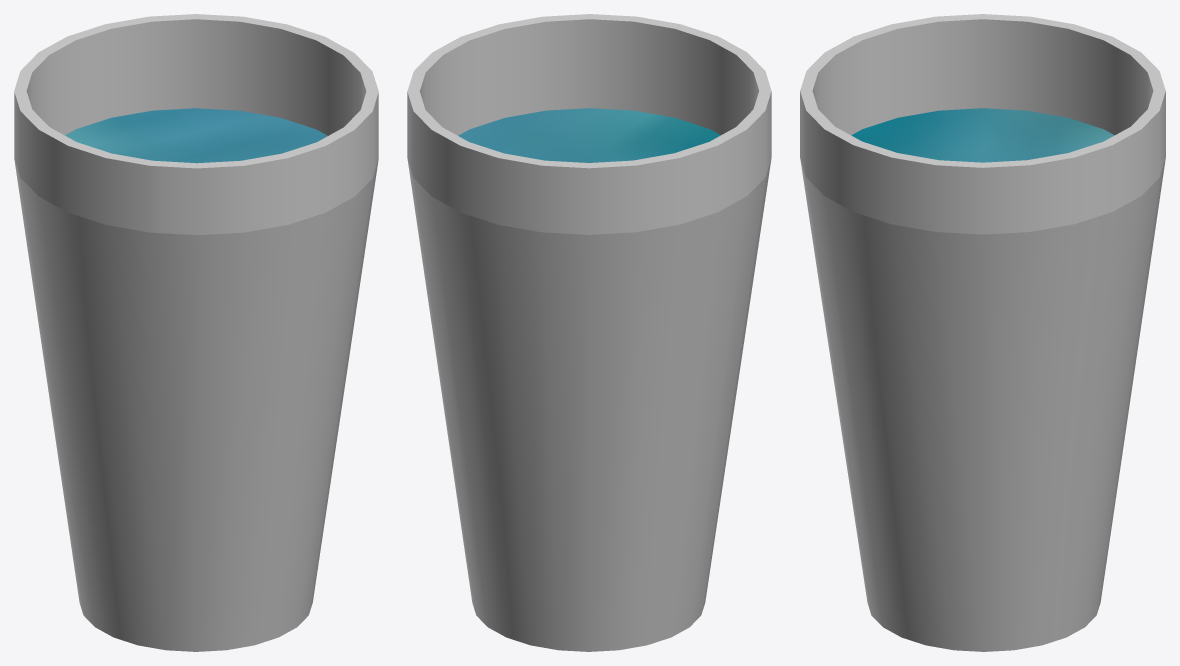
3 renders of one model, left to right at view 1: azimuth 30°, elevation 25°; view 2: azimuth 150°, elevation 25°; view 3: azimuth 270°, elevation 25°, orthographic.
Parts seen in each view (by area): view 1: Water_Cup (×3); view 2: Water_Cup (×3); view 3: Water_Cup (×3).
Boxes of the visible parts, bbox=[...] form: Water_Cup (×3): bbox=[14, 14, 378, 651]; Water_Cup (×3): bbox=[407, 14, 771, 651]; Water_Cup (×3): bbox=[800, 14, 1165, 651].
Bounding box in the file's own units: 3.71 × 3.73 × 5.75.
2 materials, 1 textured.
